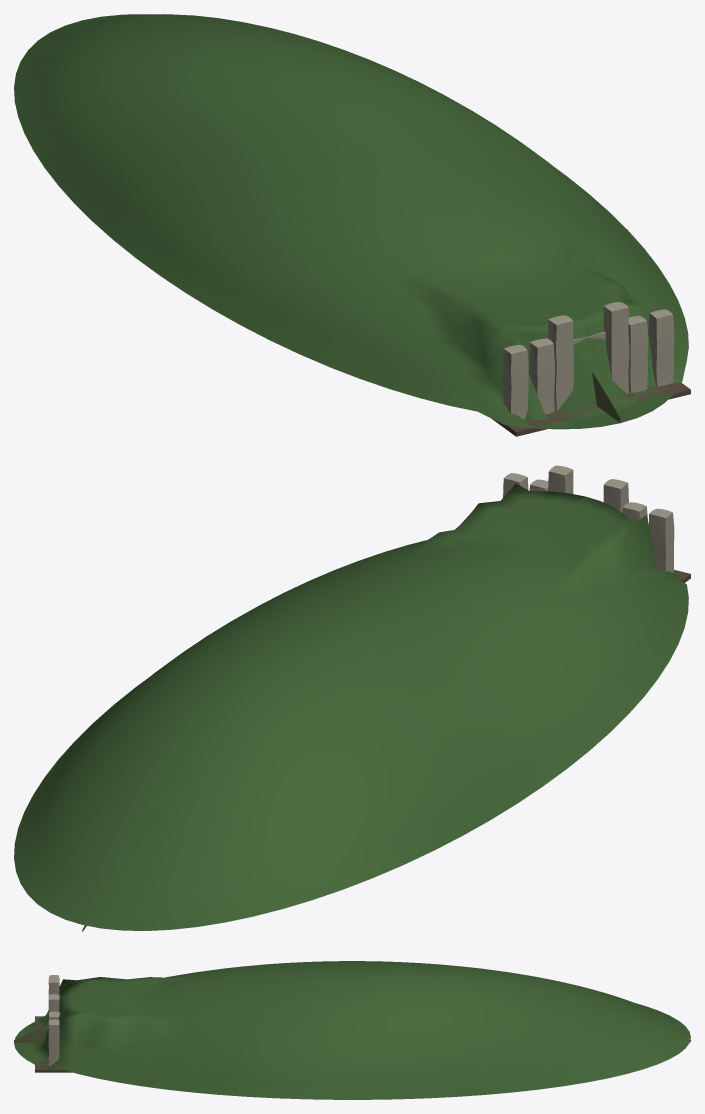
The model's file is waylands_smithy.glb.
3 renders of one model, top to bottom at view 1: azimuth 30°, elevation 25°; view 2: azimuth 150°, elevation 25°; view 3: azimuth 270°, elevation 25°, orthographic. The views are drawn at different scales.
Visible parts, largest first — view 1: waylands_mound_west, waylands_mound_east, waylands_stones, waylands_floor; view 2: waylands_mound_west, waylands_mound_east, waylands_stones; view 3: waylands_mound_east, waylands_mound_west, waylands_stones, waylands_floor.
Boxes of the visible parts, x1,y1,x2,y2 form: waylands_mound_west: (14,19,620,429); waylands_mound_east: (83,14,688,422); waylands_stones: (502,302,674,419); waylands_floor: (492,382,690,436); waylands_mound_west: (82,496,688,931); waylands_mound_east: (14,483,584,928); waylands_stones: (503,465,674,573); waylands_mound_east: (14,981,690,1099); waylands_mound_west: (14,961,690,1042); waylands_stones: (48,975,60,1066); waylands_floor: (35,1016,72,1072).
Size of the model in its own units: 13.99 by 3.35 by 32.
